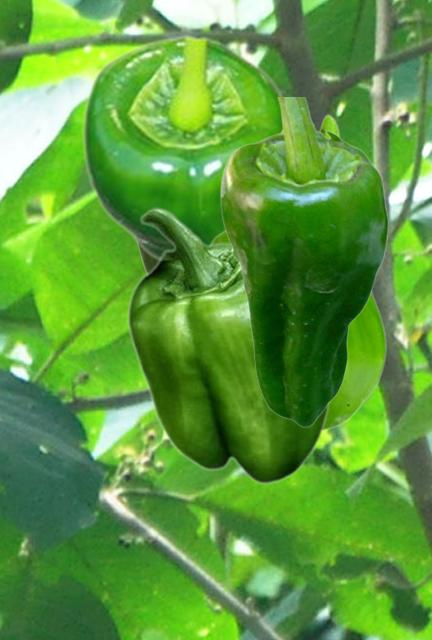bell_pepper: (126, 207, 331, 484), (209, 113, 386, 433), (219, 97, 388, 427), (80, 33, 287, 262)
